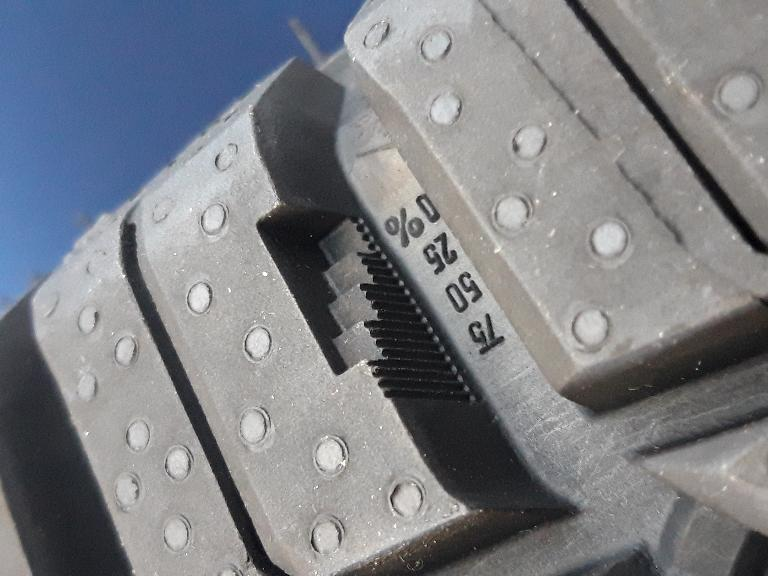temoin:100: (250, 192, 485, 416)
